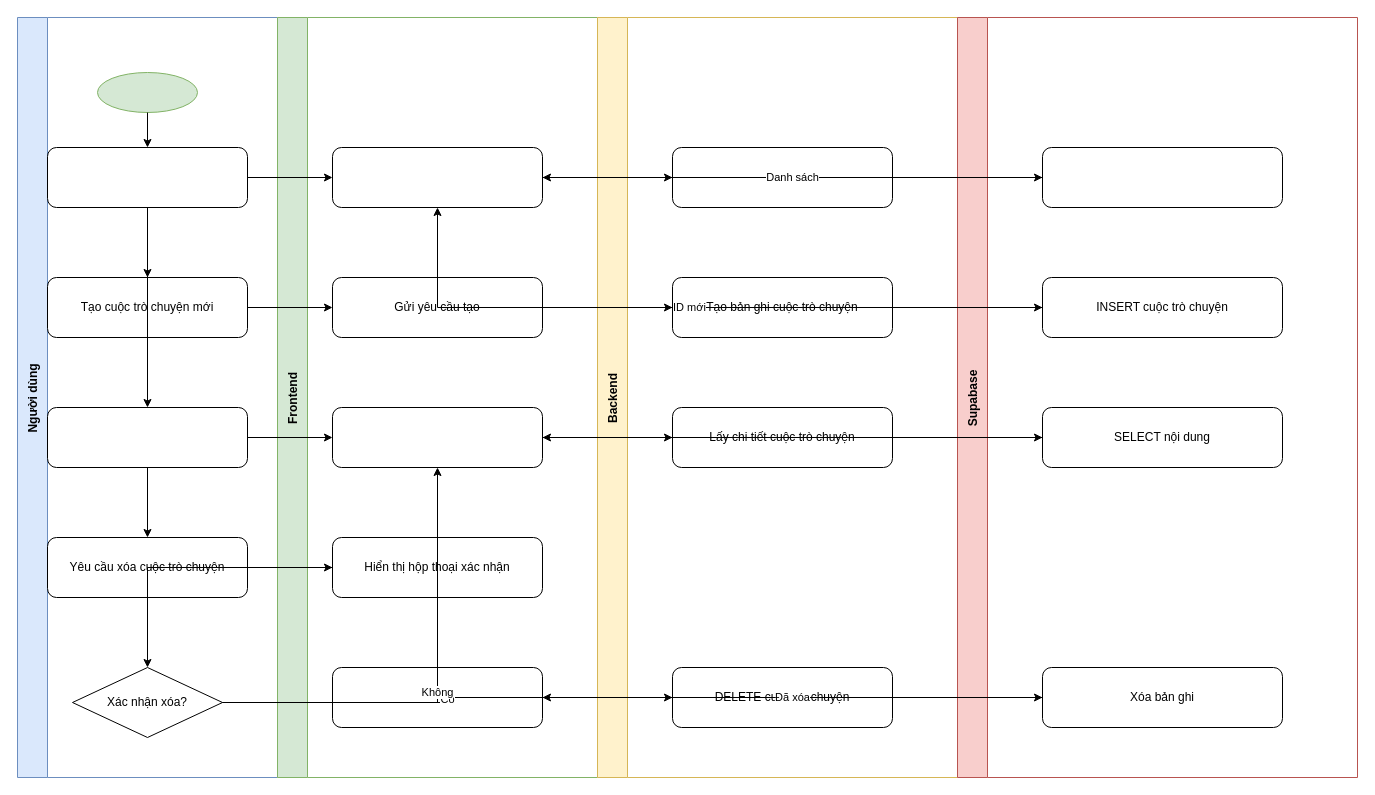
Some shapes in this 1375 by 795 pixel diagram are drawn without their labels. Each missing label, with the centre of its shape:
"Bảng conversations: danh sách" belongs at point 1162,177.
"Bắt đầu" belongs at point 147,92.
"Cập nhật danh sách" belongs at point 437,697.
"Hiển thị danh sách" belongs at point 437,177.
"Lấy lịch sử cuộc trò chuyện" belongs at point 782,177.
"Mở cuộc trò chuyện" belongs at point 147,437.
"Mở danh sách cuộc trò chuyện" belongs at point 147,177.
"Tải và hiển thị nội dung" belongs at point 437,437.
